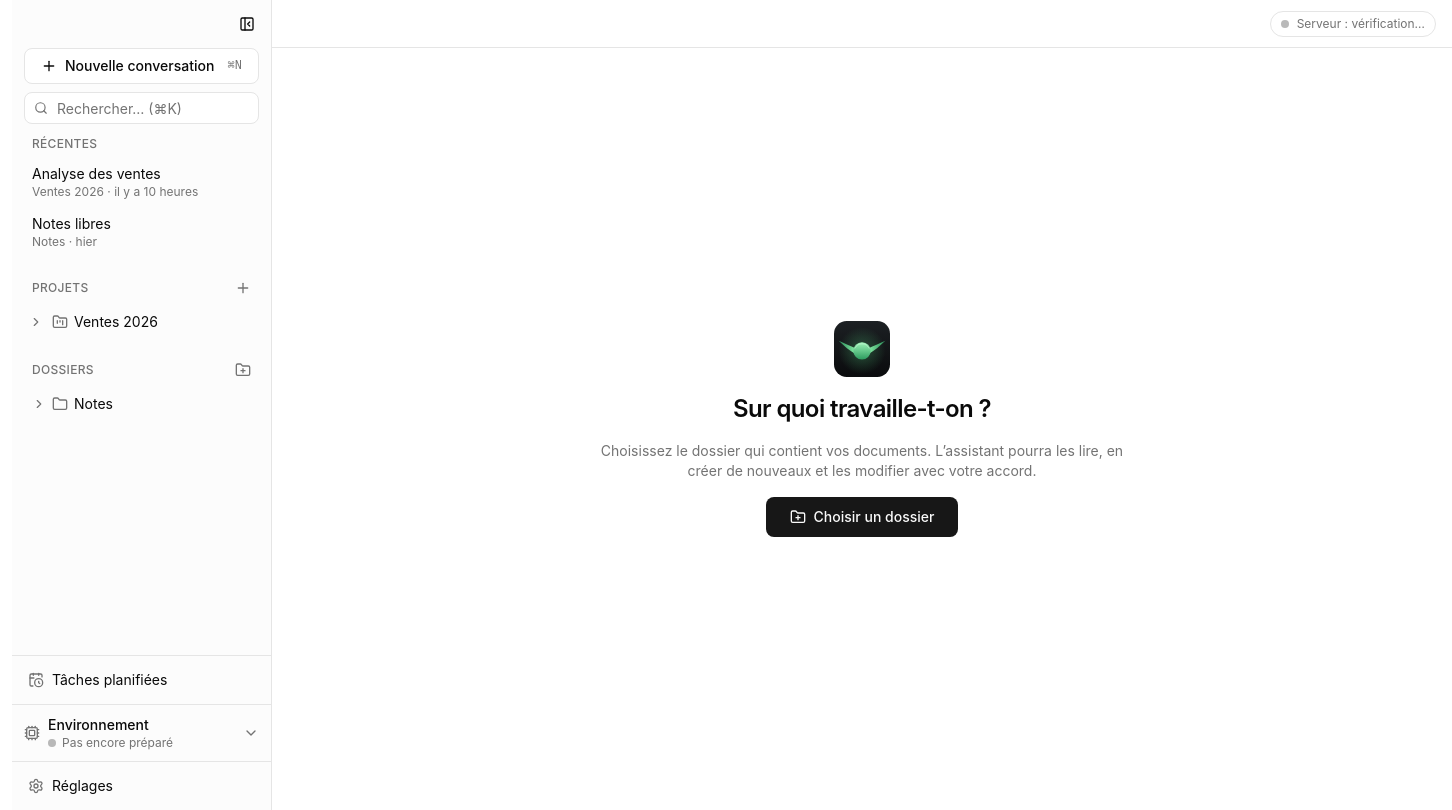
Test: colonne de gauche : projets › liste les projets ; les conversations de projet quittent la section Dossiers
expect the list named "Projets" is shown: met, box [24,306,259,338]
expect the button "Ventes 2026" is shown: met, box [52,306,227,338]
// Déplié, le projet montre sa conversation.
Click the button named "Déplier le projet Ventes 2026" at (36, 322), box [24,310,48,334]
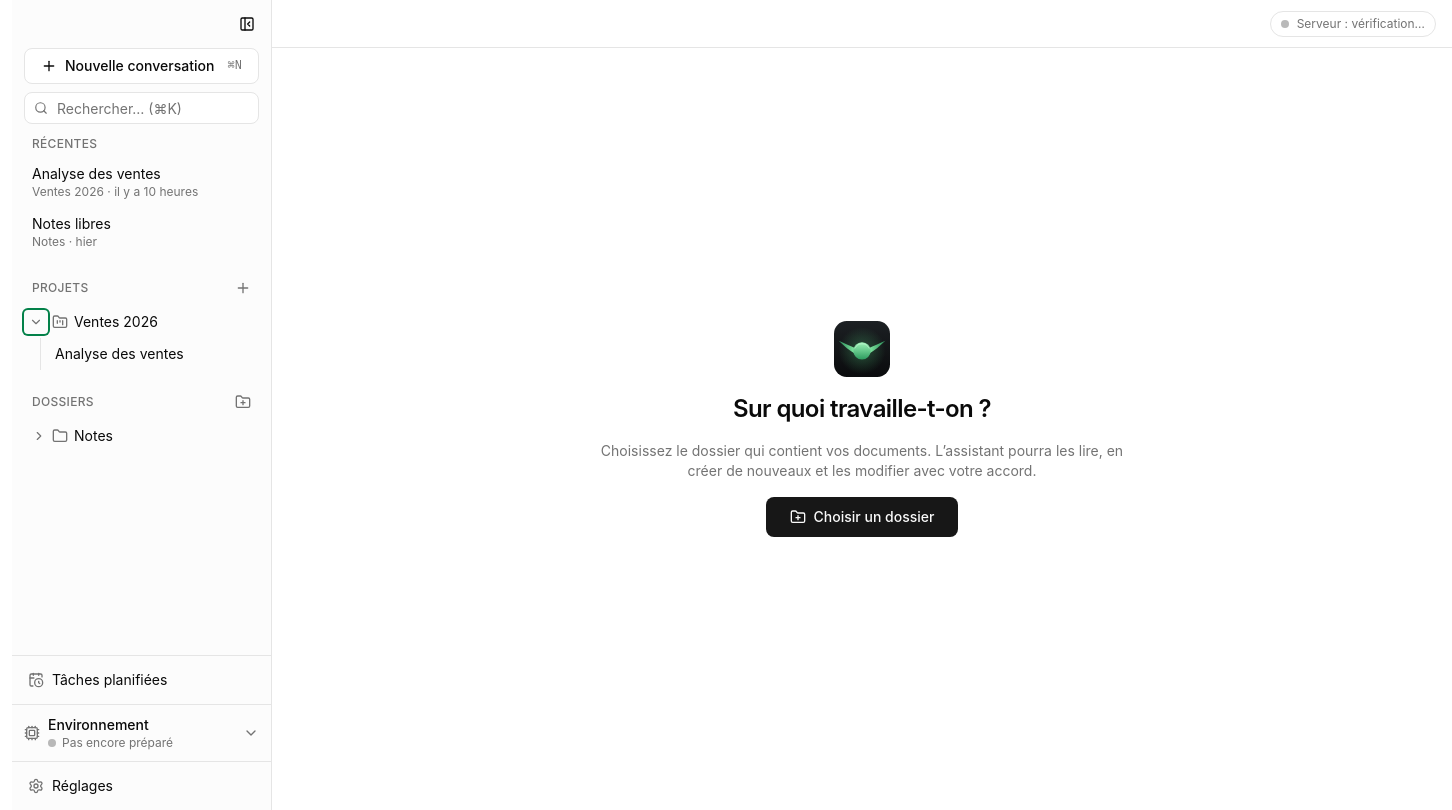
expect the 2nd text "Analyse des ventes" is shown: met, box [55,345,184,362]
